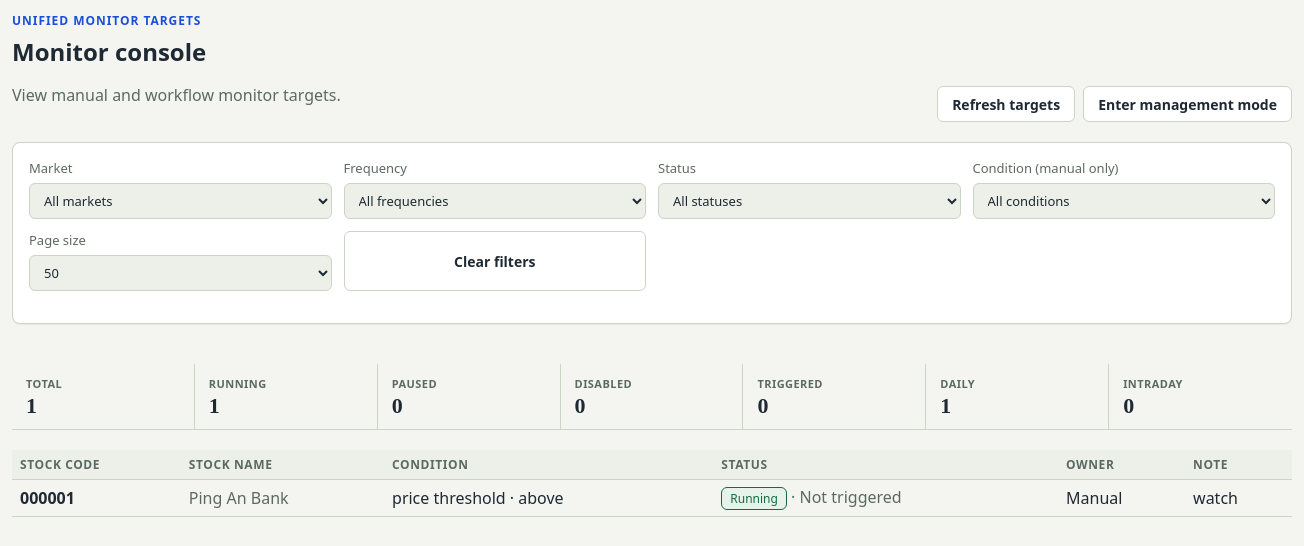
Test: MonitorPage › starts read-only and only exposes management after explicit entry
Expected: the text "000001" is shown, [20, 487, 75, 509]
Click the button "Enter management mode": click(1188, 104) [1083, 86, 1292, 122]
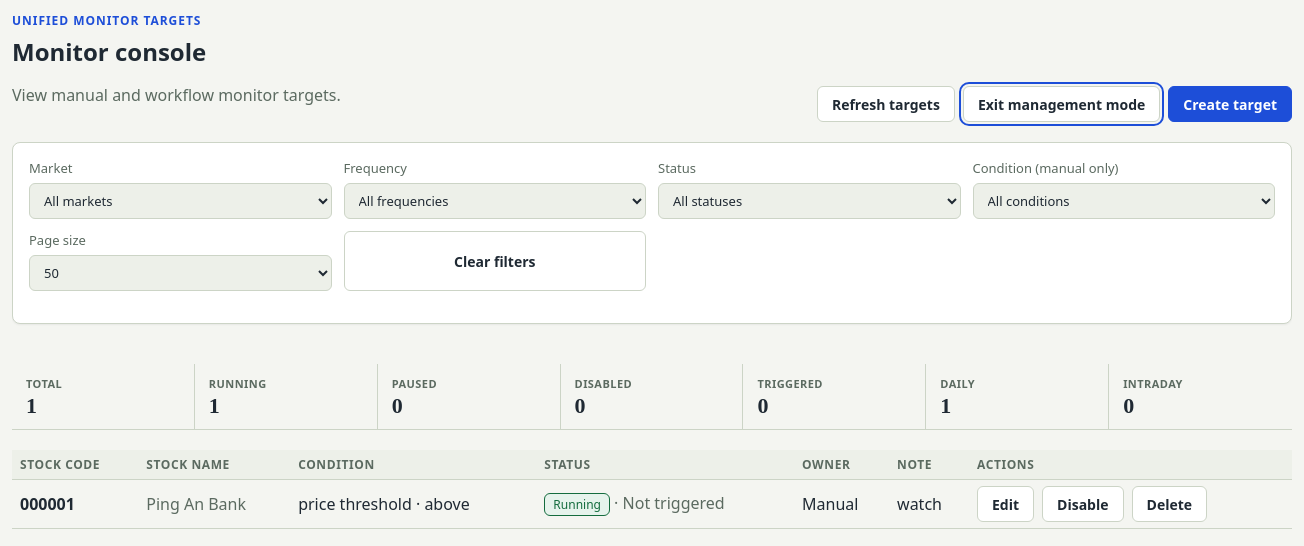
Now the button with aria-label "Edit 000001" is shown, box [977, 486, 1034, 522]
